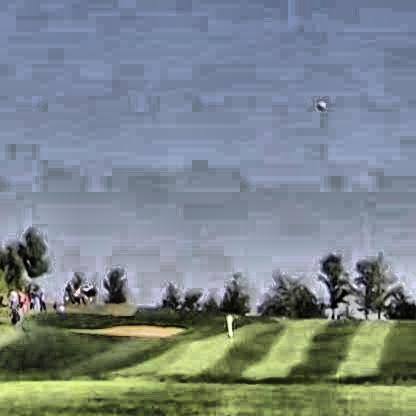golfball: (314, 99, 324, 108)
